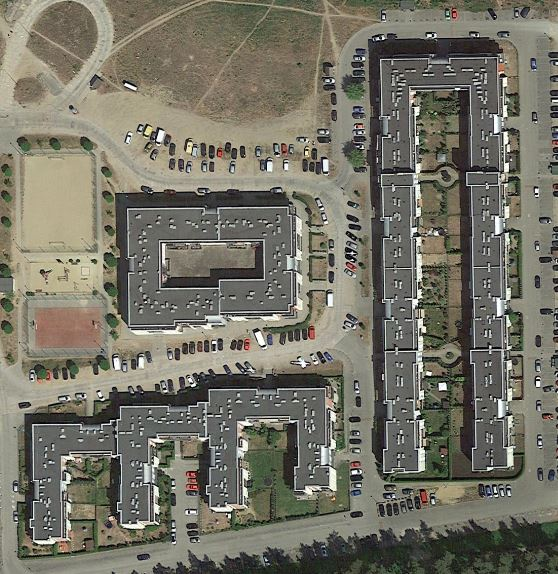block of flats: (378, 54, 518, 479), (25, 382, 340, 546), (121, 204, 306, 337)
